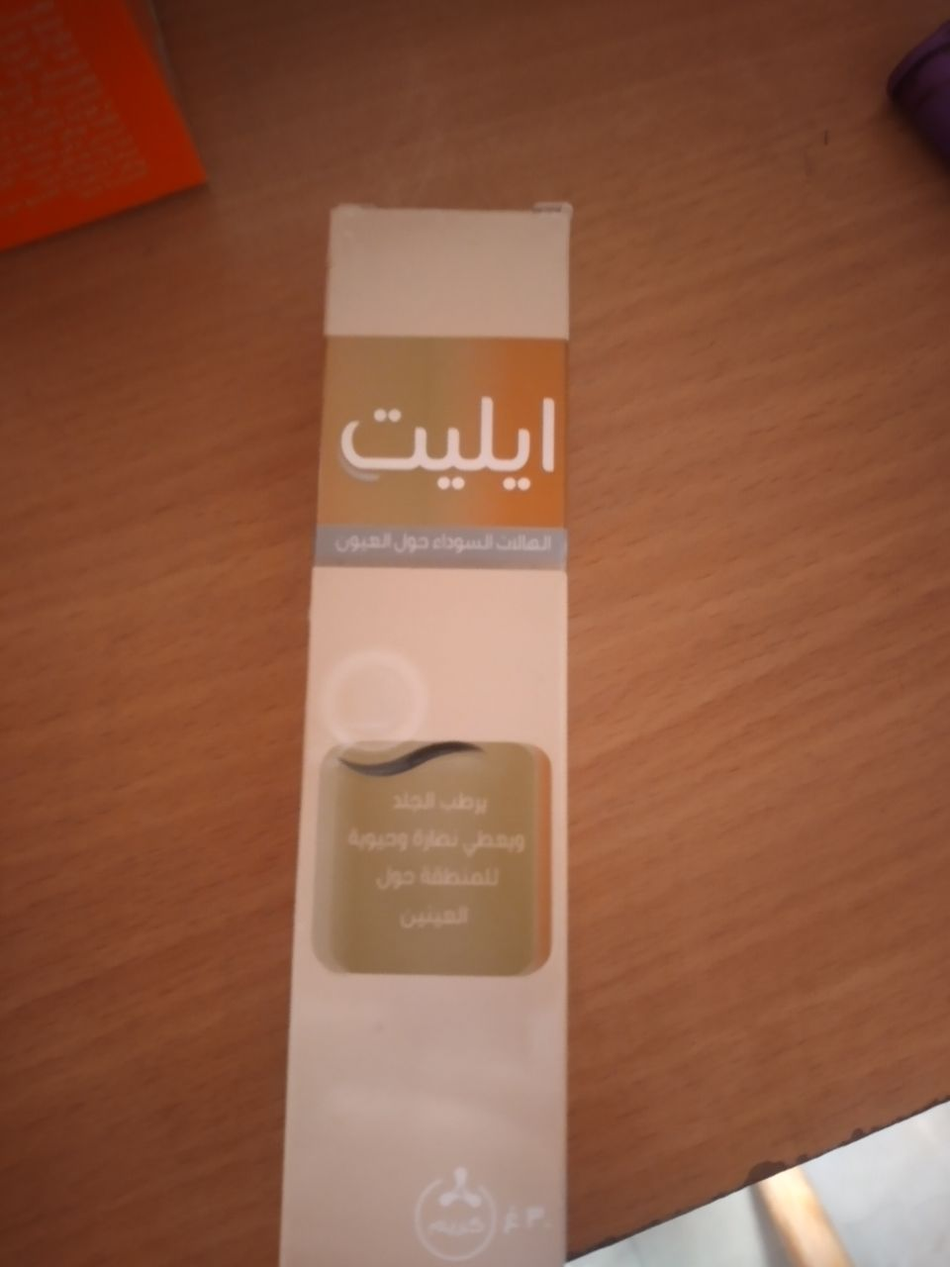Medicine: (277, 185, 574, 1267)
